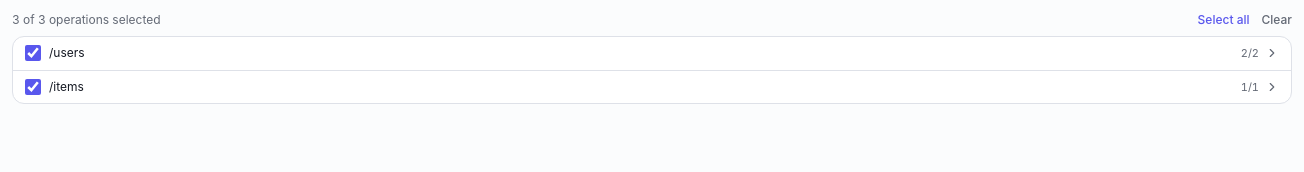
Test: OperationPicker › unticking a path deselects all of its methods
The width and height of the screenshot is (1304, 172).
Click the checkbox named "Select all methods of /users".
click(33, 53)  # box [25,45,41,61]
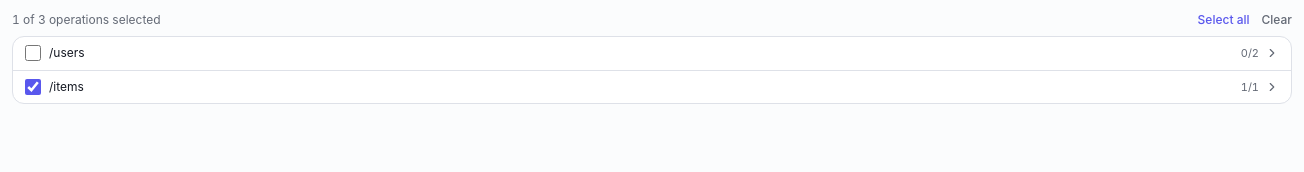
Result: the text "1 of 3 operations selected" is shown at [12,12,161,28]
